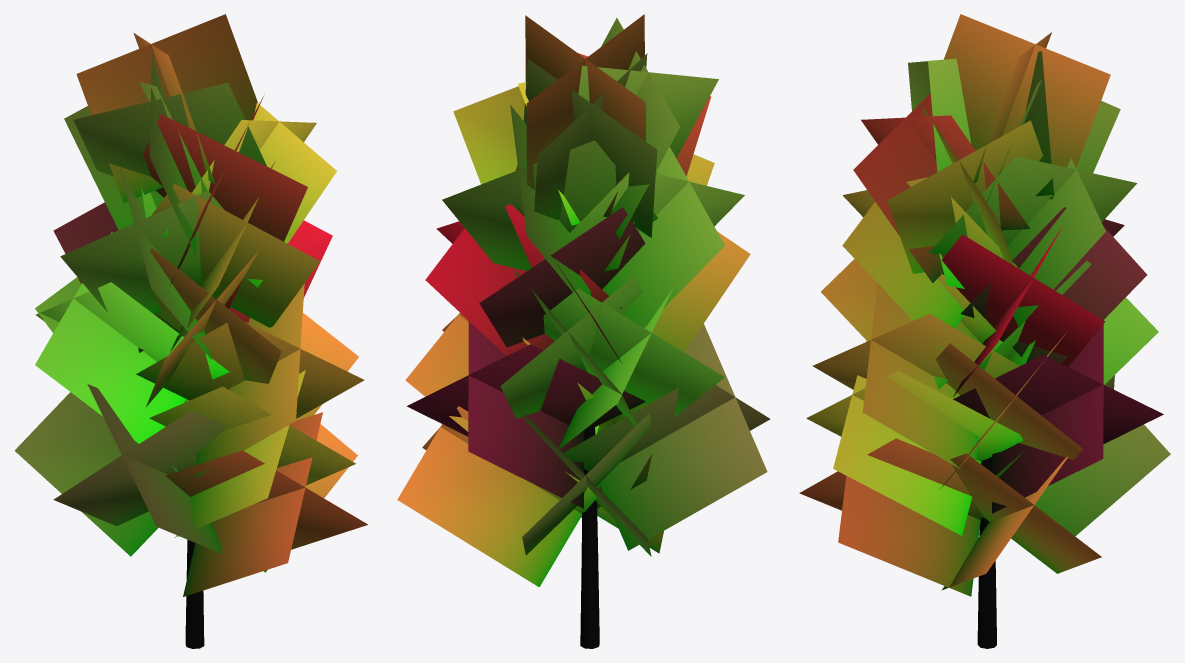
The model's file is Tree_20.fbx.
3 views of the same model, side by side, from view 1: azimuth 30°, elevation 25°; view 2: azimuth 150°, elevation 25°; view 3: azimuth 270°, elevation 25° (orthographic). The views are drawn at different scales.
Visible parts, largest first — view 1: Tree_20; view 2: Tree_20; view 3: Tree_20.
Boxes of the visible parts, x1,y1,x2,y2 form: Tree_20: (14, 14, 367, 648); Tree_20: (397, 14, 770, 648); Tree_20: (799, 14, 1170, 648).
Bounding box in the file's own units: 455 × 829 × 457.
